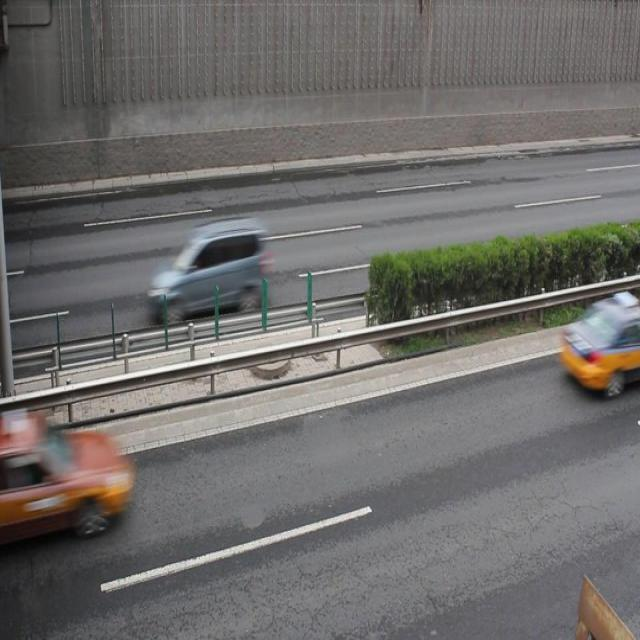car: (149, 219, 268, 325), (559, 292, 640, 398)
